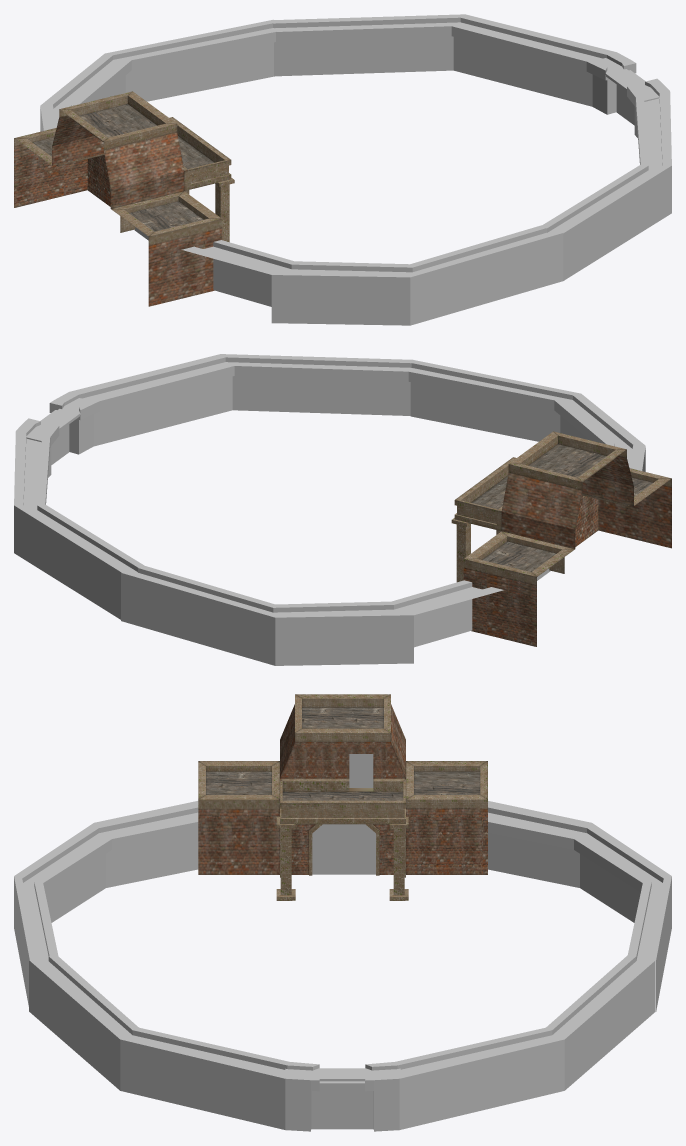
The model's file is Arena.fbx.
3 renders of one model, top to bottom at view 1: azimuth 30°, elevation 25°; view 2: azimuth 150°, elevation 25°; view 3: azimuth 270°, elevation 25°, orthographic. The views are drawn at different scales.
Parts seen in each view (by area): view 1: North_West_Wall.001, South_West_Wall, Main_Monster_Entrance, Entrance_Bridge, Pillar, Player_Door; view 2: North_West_Wall.001, South_West_Wall, Main_Monster_Entrance, Entrance_Bridge, Pillar, Player_Door; view 3: South_West_Wall, Main_Monster_Entrance, North_West_Wall.001, Monster_Door, Player_Door, Pillar, Entrance_Bridge, Boss_Door.
Part boxes in pixels (left/top/right/bottom): North_West_Wall.001: left=40, top=19, right=563, bottom=325; South_West_Wall: left=273, top=14, right=671, bottom=280; Main_Monster_Entrance: left=14, top=91, right=231, bottom=306; Entrance_Bridge: left=595, top=58, right=659, bottom=101; Pillar: left=215, top=178, right=234, bottom=242; Player_Door: left=616, top=70, right=645, bottom=125; North_West_Wall.001: left=121, top=359, right=645, bottom=665; South_West_Wall: left=14, top=354, right=412, bottom=619; Main_Monster_Entrance: left=454, top=431, right=671, bottom=646; Entrance_Bridge: left=26, top=398, right=89, bottom=442; Pillar: left=451, top=518, right=470, bottom=582; Player_Door: left=40, top=410, right=69, bottom=464; South_West_Wall: left=29, top=955, right=655, bottom=1131; Main_Monster_Entrance: left=198, top=694, right=487, bottom=877; North_West_Wall.001: left=14, top=801, right=671, bottom=1011; Monster_Door: left=312, top=824, right=375, bottom=874; Player_Door: left=311, top=1081, right=373, bottom=1129; Pillar: left=276, top=816, right=408, bottom=900; Entrance_Bridge: left=285, top=1068, right=400, bottom=1081; Boss_Door: left=349, top=754, right=373, bottom=787.
Bounding box in the file's own units: 8991 × 2032 × 8426.
